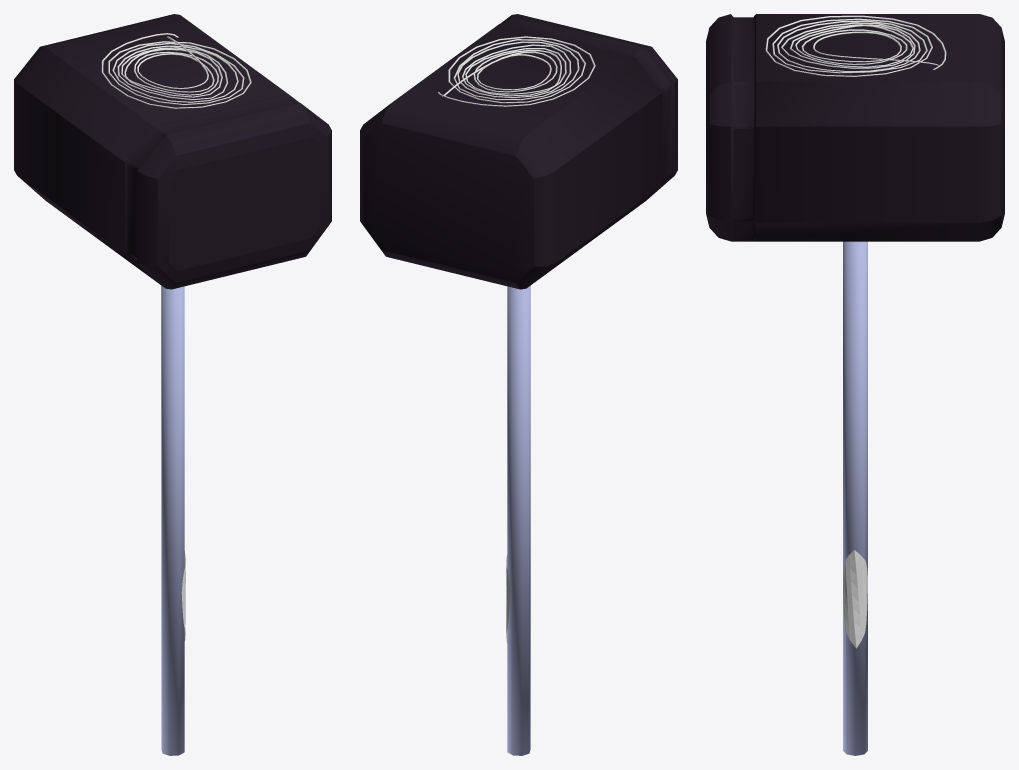
The model's file is FryHammer.glb.
3 renders of one model, left to right at view 1: azimuth 30°, elevation 25°; view 2: azimuth 150°, elevation 25°; view 3: azimuth 270°, elevation 25°, orthographic. The views are drawn at different scales.
Parts seen in each view (by area): view 1: Cylinder.001, Cylinder, NurbsCurve; view 2: Cylinder.001, Cylinder, NurbsCurve; view 3: Cylinder.001, Cylinder, NurbsCurve, Plane.
Boxes of the visible parts, <box> form: Cylinder.001: <box>14,14,331,289</box>; Cylinder: <box>161,286,184,755</box>; NurbsCurve: <box>101,33,251,108</box>; Cylinder.001: <box>360,14,677,289</box>; Cylinder: <box>507,286,530,755</box>; NurbsCurve: <box>438,36,595,106</box>; Cylinder.001: <box>706,14,1004,241</box>; Cylinder: <box>843,241,867,755</box>; NurbsCurve: <box>765,15,946,76</box>; Plane: <box>843,550,867,648</box>.
Size of the model in its own units: 0.4042 by 1.37 by 0.525.
